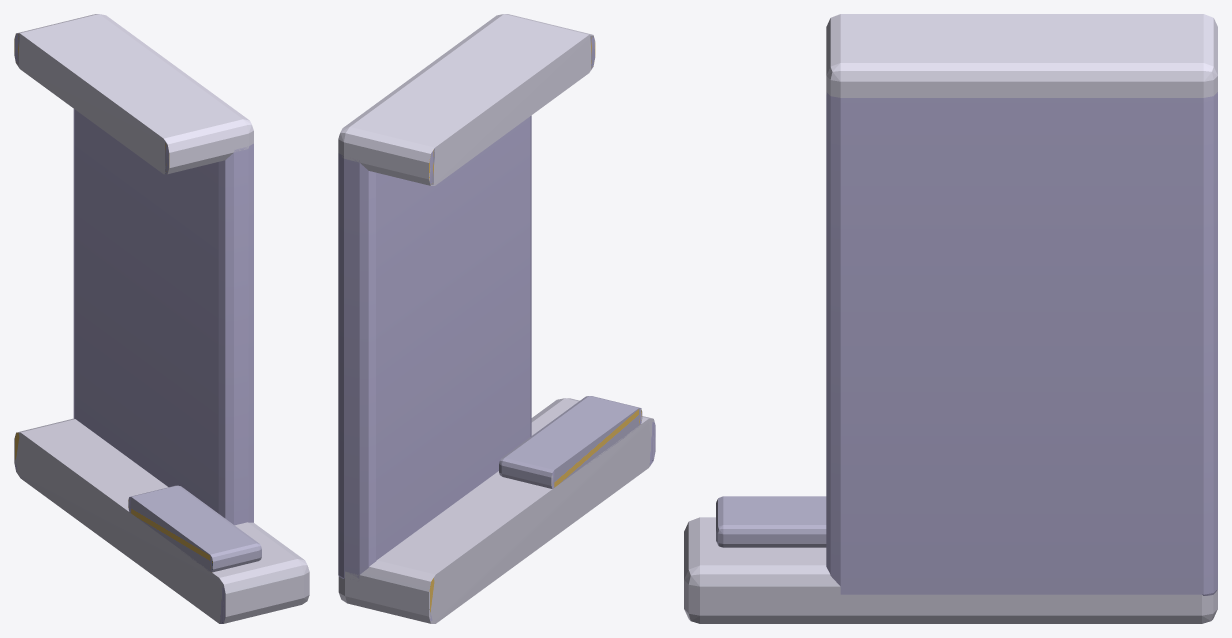
The model's file is SM_ModularShelf_RightEnd.fbx.
3 renders of one model, left to right at view 1: azimuth 30°, elevation 25°; view 2: azimuth 150°, elevation 25°; view 3: azimuth 270°, elevation 25°, orthographic. The views are drawn at different scales.
Visible parts, largest first — view 1: SM_ModularShelf_RightEnd; view 2: SM_ModularShelf_RightEnd; view 3: SM_ModularShelf_RightEnd.
Boxes of the visible parts, box(x1,y1,x2,y2) form: SM_ModularShelf_RightEnd: box(14, 14, 309, 623); SM_ModularShelf_RightEnd: box(338, 14, 655, 623); SM_ModularShelf_RightEnd: box(684, 14, 1217, 623).
Size of the model in its own units: 0.365 by 1.74 by 1.5.
